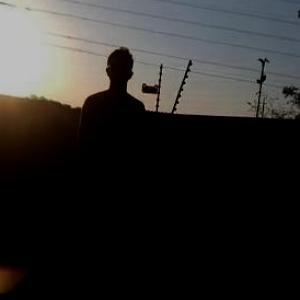follow: (71, 40, 152, 299)
